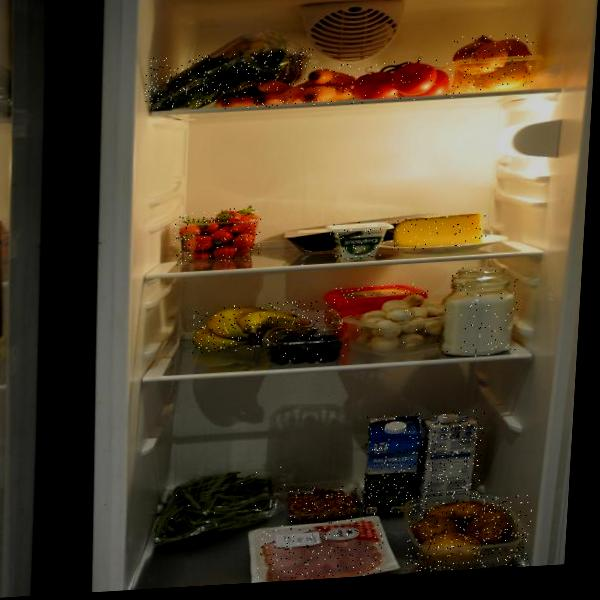banana: (191, 300, 321, 354)
blueberries: (269, 330, 347, 366)
butter: (321, 283, 432, 339)
carrot: (218, 63, 358, 111)
cheese: (392, 212, 488, 251)
goat_cheese: (327, 220, 394, 261)
green_beans: (154, 464, 289, 548)
ham: (256, 522, 385, 583)
milk: (415, 409, 485, 516), (360, 413, 426, 519)
mushrooms: (343, 292, 463, 353)
onion: (451, 32, 535, 95)
potato: (405, 494, 533, 573)
shrimp: (287, 485, 358, 526)
spinach: (144, 49, 313, 111)
strawberries: (171, 207, 262, 266)
sugar: (439, 264, 521, 360)
tomato: (351, 57, 455, 104)
